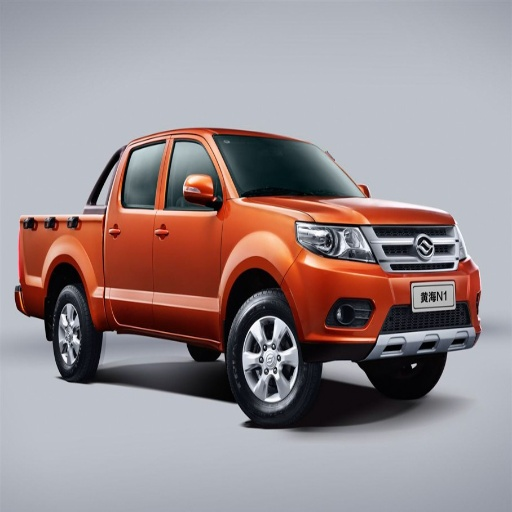back_left_light: (105, 137, 171, 325)
back_right_light: (289, 225, 480, 359)
front_bumper: (214, 134, 367, 194)
front_left_light: (154, 135, 222, 336)
front_right_door: (296, 221, 376, 263)
front_right_light: (252, 193, 455, 223)
tailgate: (2, 212, 98, 310)
trunk: (229, 290, 320, 425), (49, 285, 99, 381), (372, 358, 444, 397)
